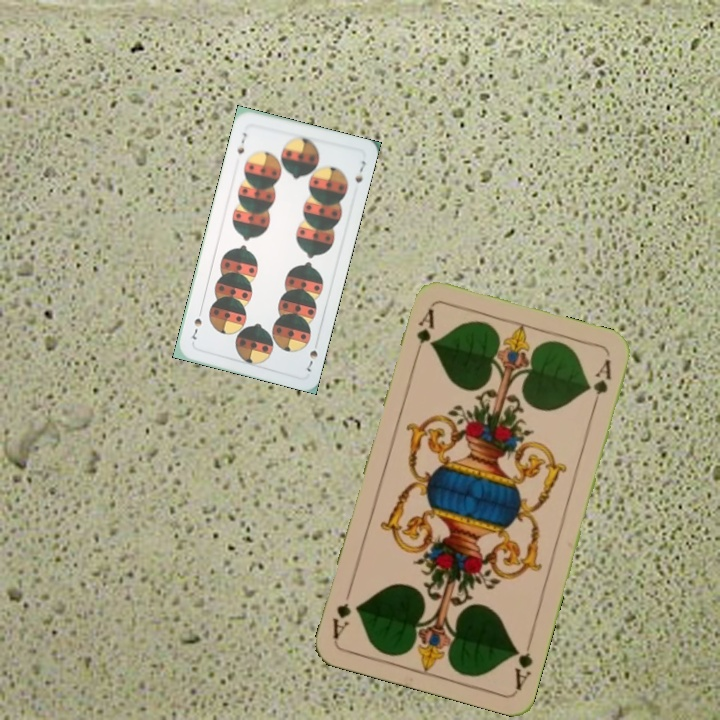GA: (410, 305, 437, 361), (510, 634, 536, 692)
S7: (303, 336, 321, 375), (233, 128, 249, 157)
